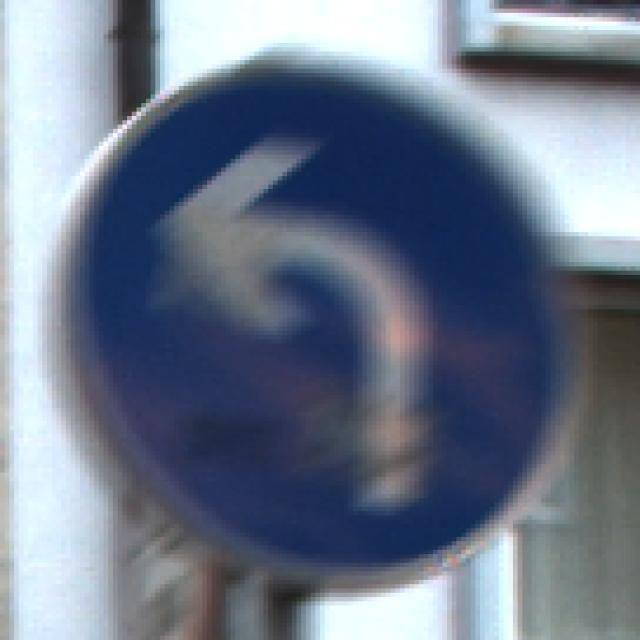compulsary turn left ahead: (51, 55, 574, 587)
